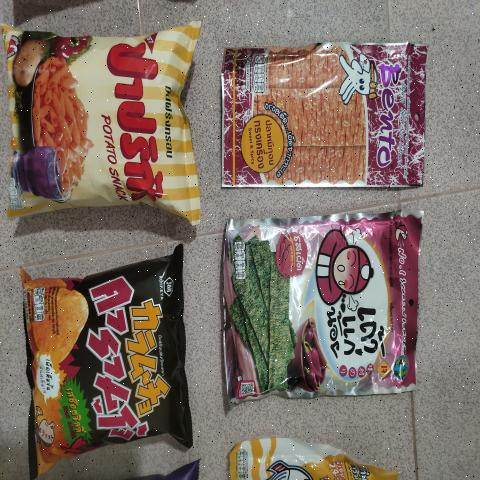bento_red: (228, 50, 426, 184)
karamujo: (33, 266, 179, 464)
paprika: (6, 29, 189, 214)
taokaenoi: (223, 230, 420, 389)
